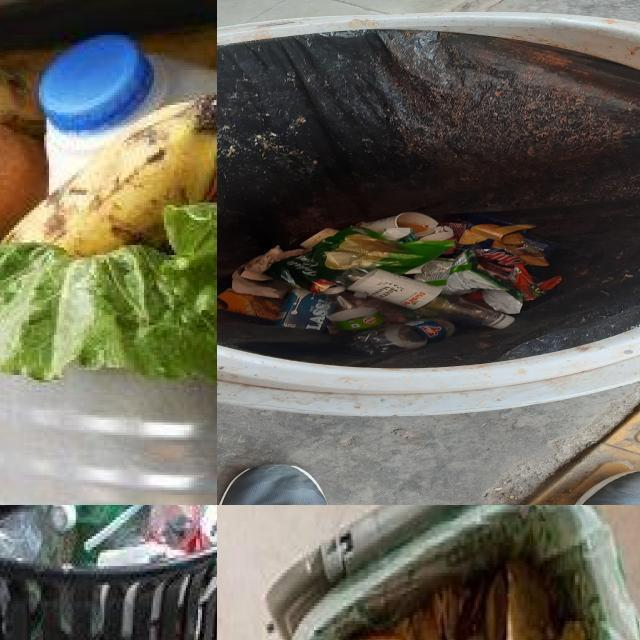Garbage: (0, 34, 217, 381), (217, 213, 560, 354), (0, 505, 217, 569)
Plastic_Container: (39, 34, 217, 192)
Plastic_bottle: (335, 266, 514, 328), (351, 319, 456, 354), (324, 286, 387, 333), (146, 505, 205, 553), (49, 505, 131, 533), (0, 510, 43, 561)
Plastic_wraper: (266, 227, 456, 290), (475, 248, 560, 302), (415, 249, 508, 295), (217, 289, 282, 321), (483, 289, 522, 314), (382, 228, 417, 243), (439, 223, 467, 241), (483, 225, 489, 228), (445, 251, 453, 253)
Tetrapack: (277, 289, 332, 331)
can: (201, 505, 217, 544)
